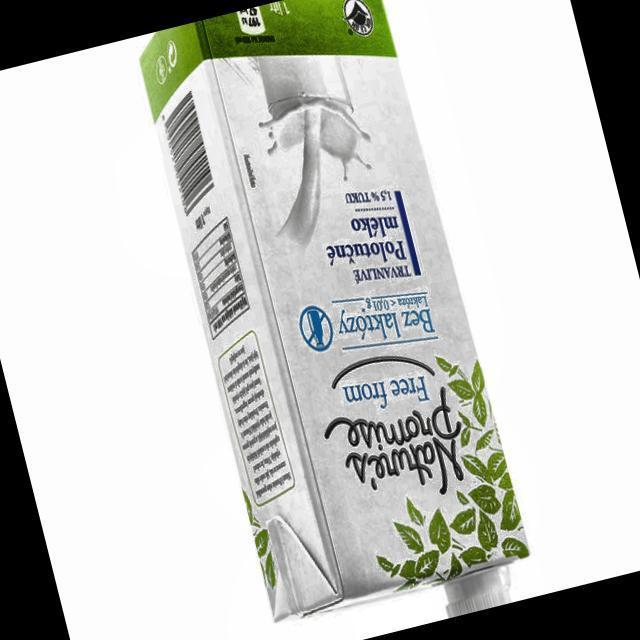cardboard: (128, 0, 533, 631)
